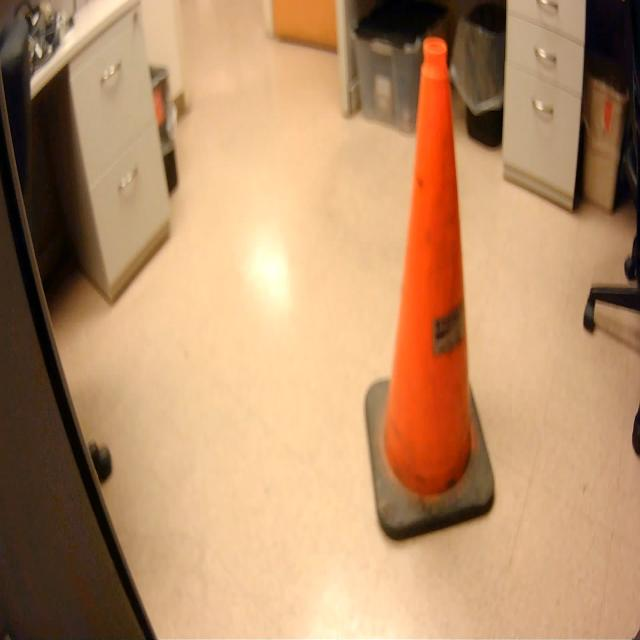traffic cone: (359, 33, 503, 550)
